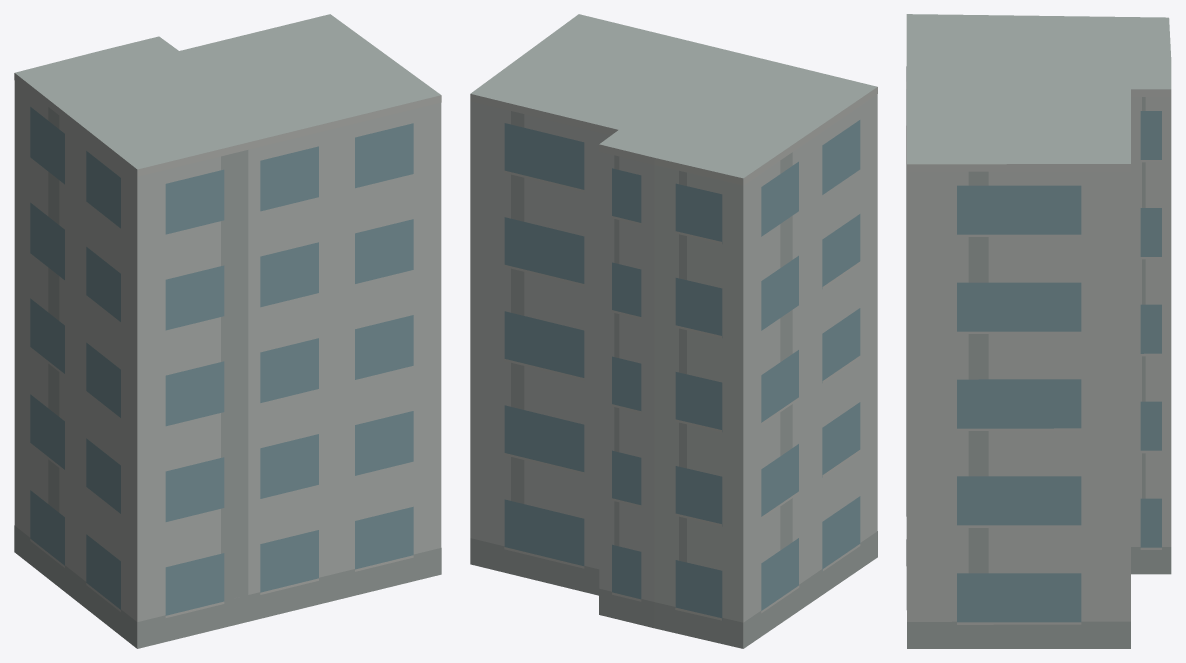
File: survey-upis-32723784.glb
3 views of the same model, side by side, from view 1: azimuth 30°, elevation 25°; view 2: azimuth 150°, elevation 25°; view 3: azimuth 270°, elevation 25° (orthographic). The views are drawn at different scales.
Visible parts, largest first — view 1: survey-upis-32723784.tmp; view 2: survey-upis-32723784.tmp; view 3: survey-upis-32723784.tmp.
Boxes of the visible parts, x1=… form: survey-upis-32723784.tmp: x1=14, y1=14, x2=441, y2=648; survey-upis-32723784.tmp: x1=470, y1=14, x2=877, y2=648; survey-upis-32723784.tmp: x1=906, y1=14, x2=1171, y2=648.
Bounding box in the file's own units: 10.56 × 15.87 × 7.89.
